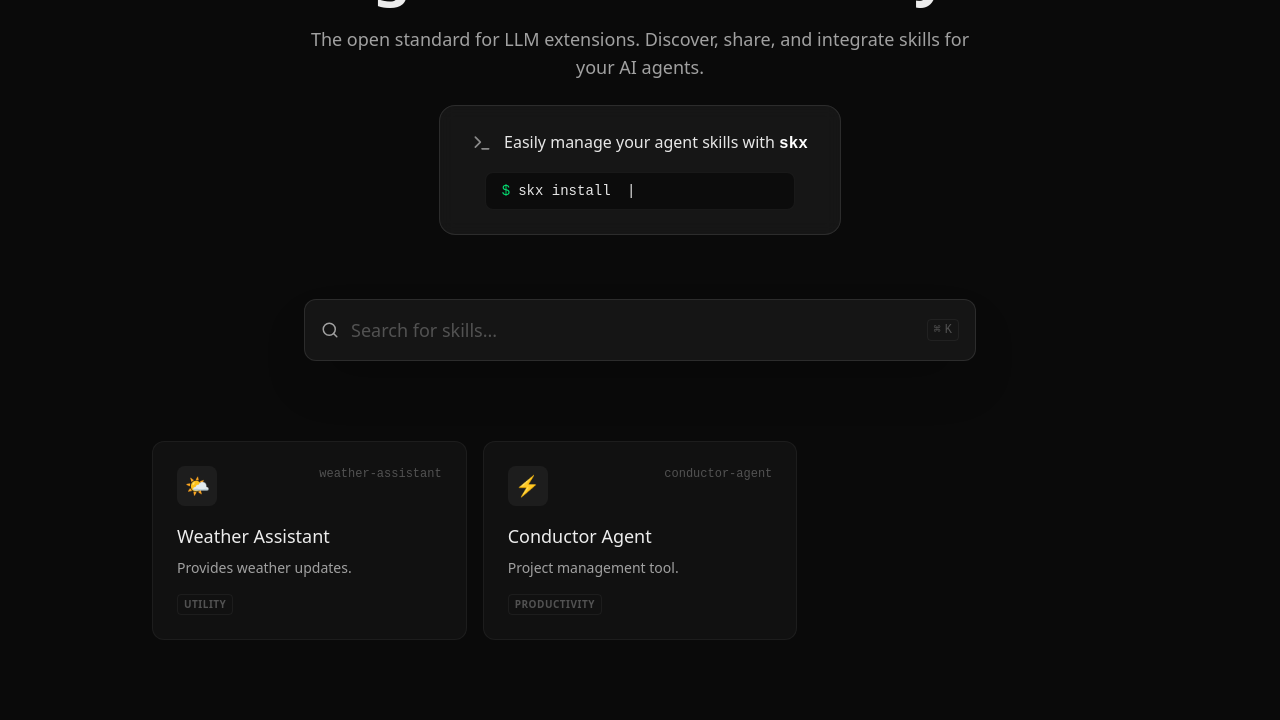
can close the detail modal
(page scrolled)
Click the heading "Weather Assistant": (253, 536) [177, 524, 330, 548]
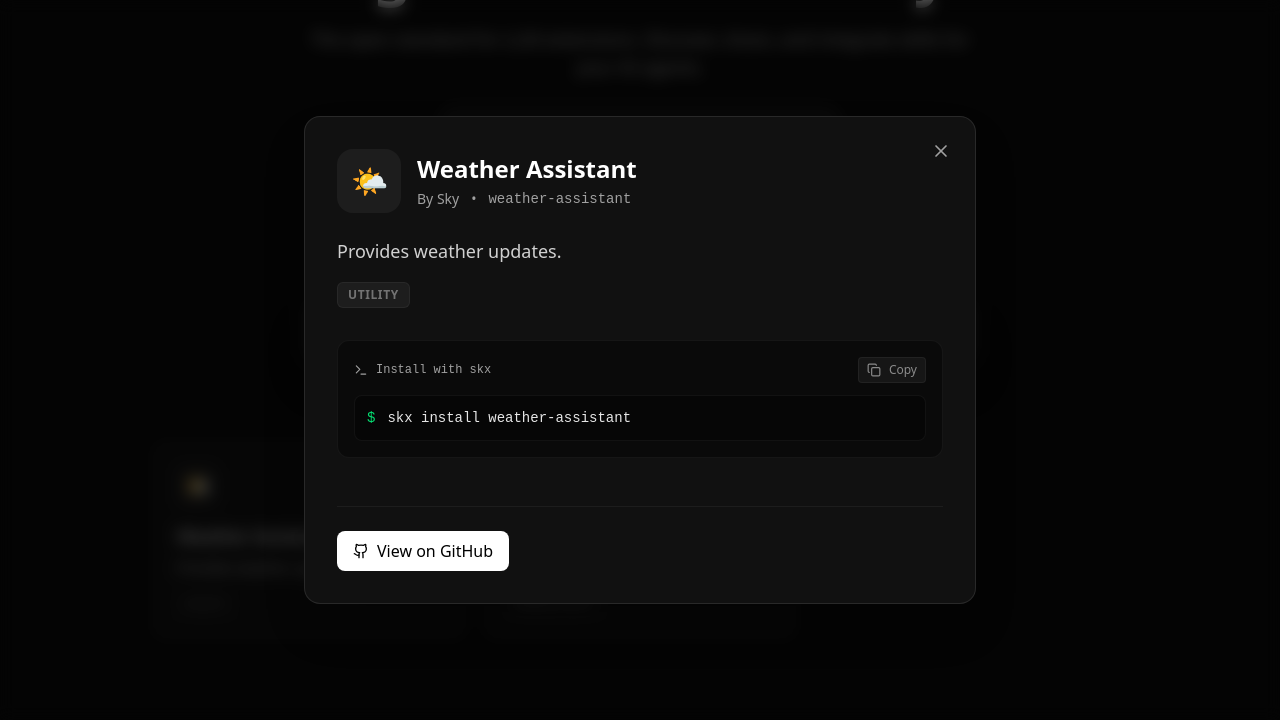
Check: the dialog is shown
// Click the close button using its aria-label
Click the button named "close modal": (941, 151) [923, 133, 959, 169]
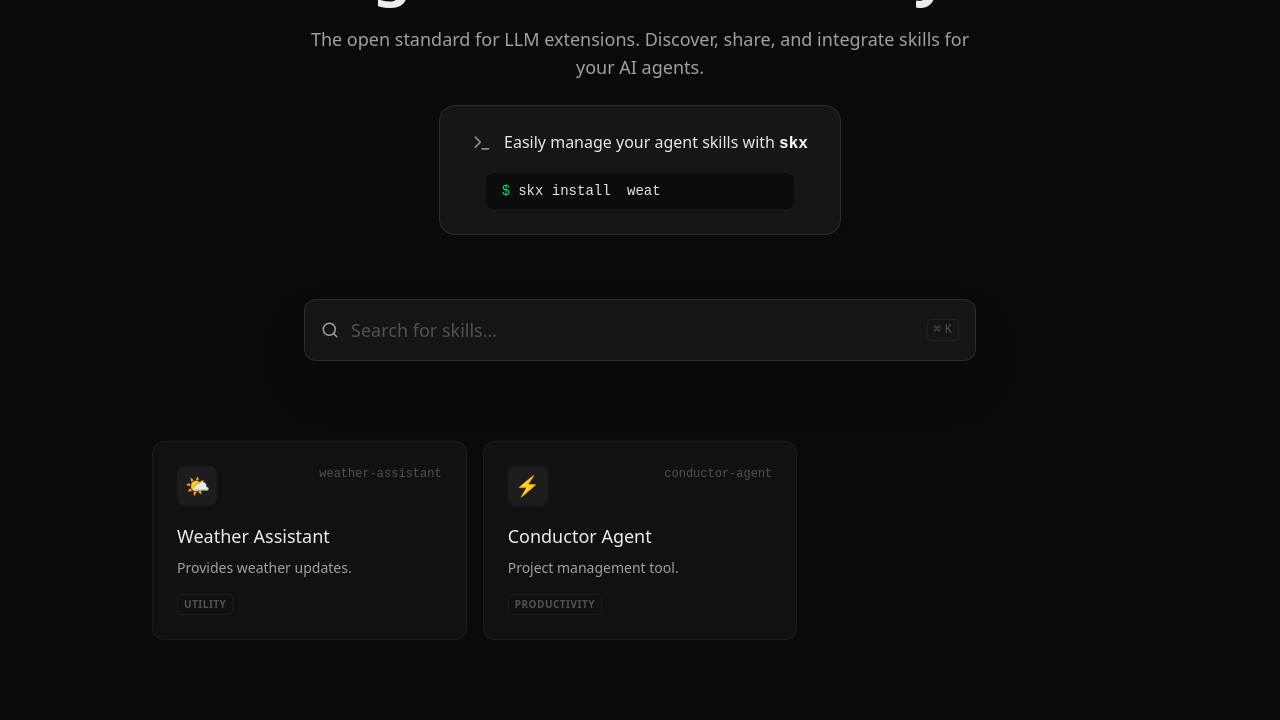
Check: the dialog is gone
